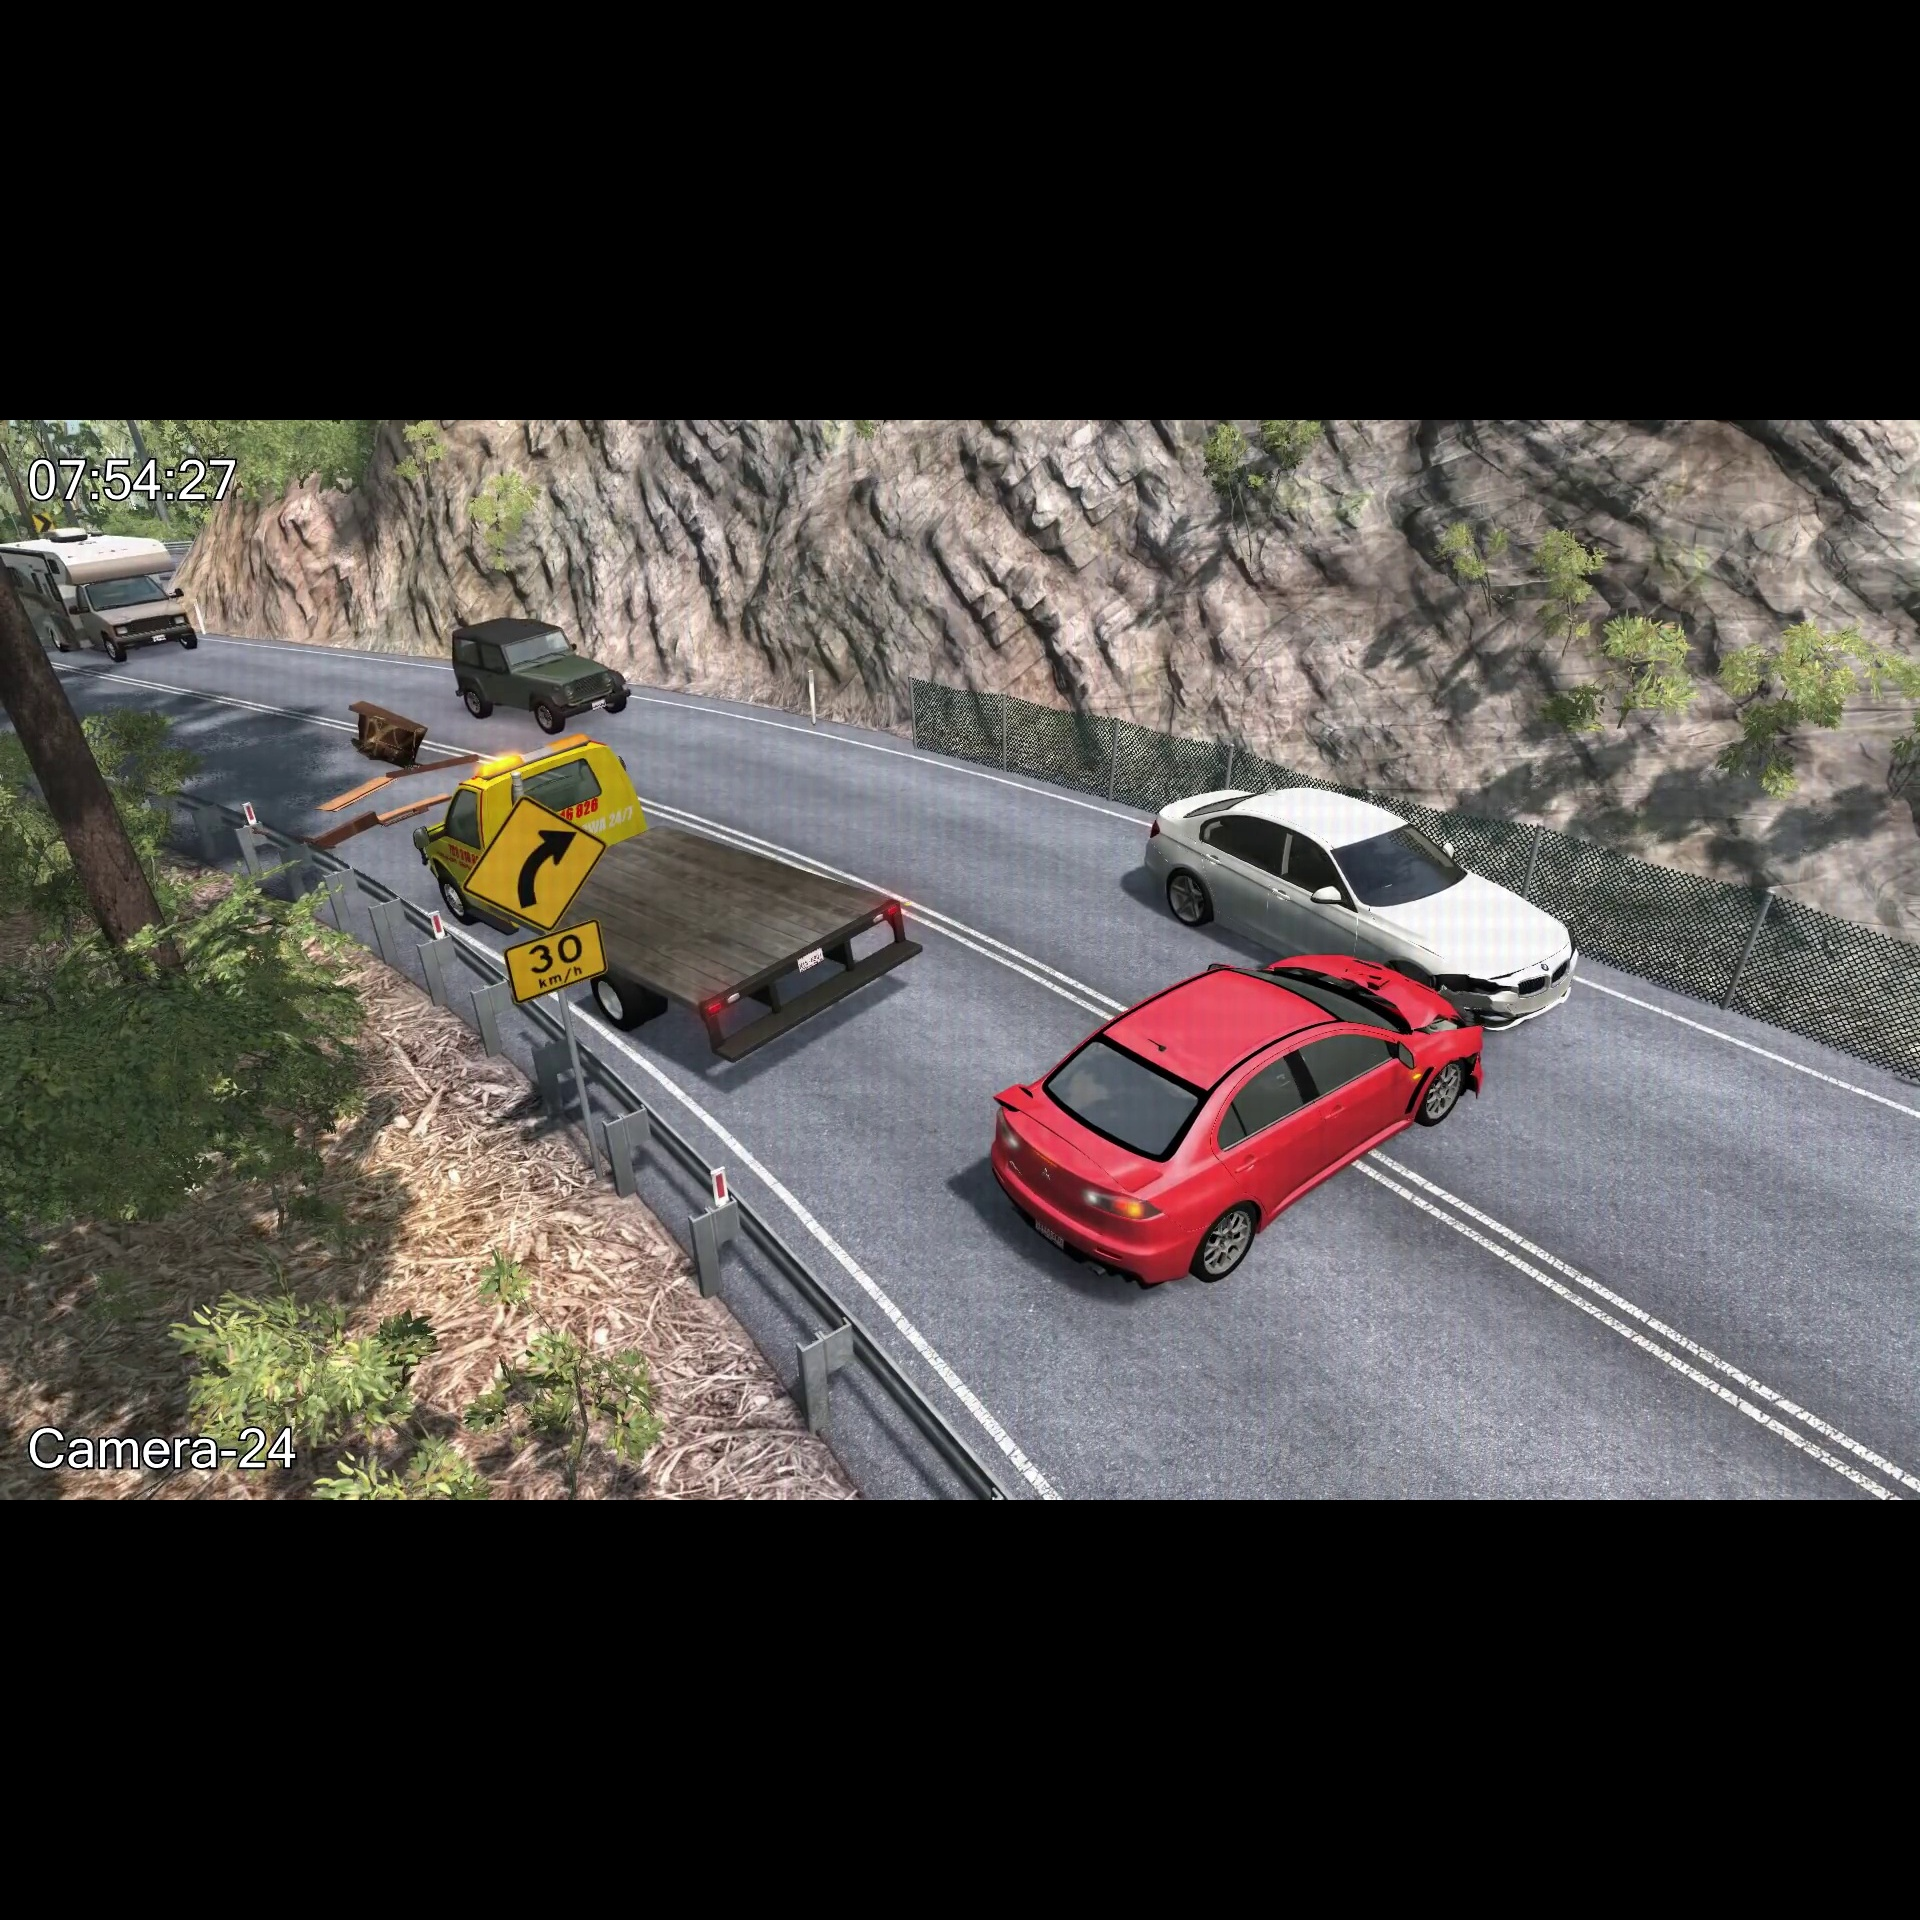vehicle: (976, 948, 1487, 1306), (406, 730, 934, 1069), (1139, 777, 1588, 1036), (2, 522, 207, 666), (440, 607, 631, 737)
